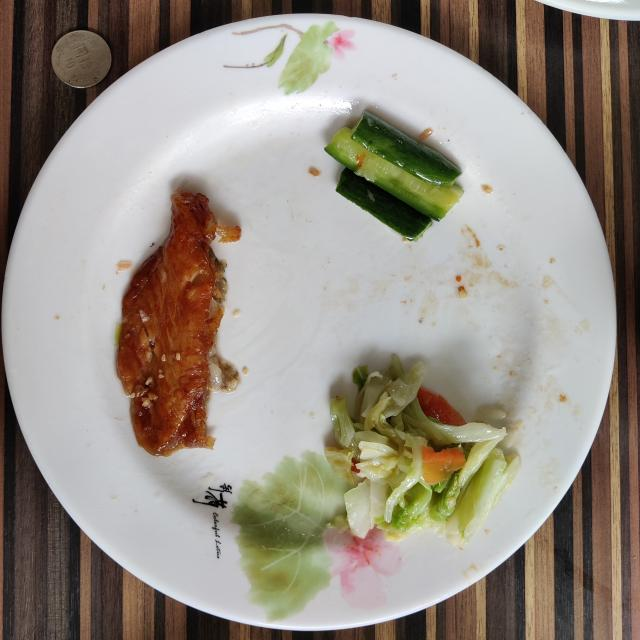Kabayaki sea bream fillet: (116, 189, 241, 456)
cabbage: (325, 355, 520, 546)
coin: (51, 30, 111, 89)
cucumber: (325, 111, 464, 240)
